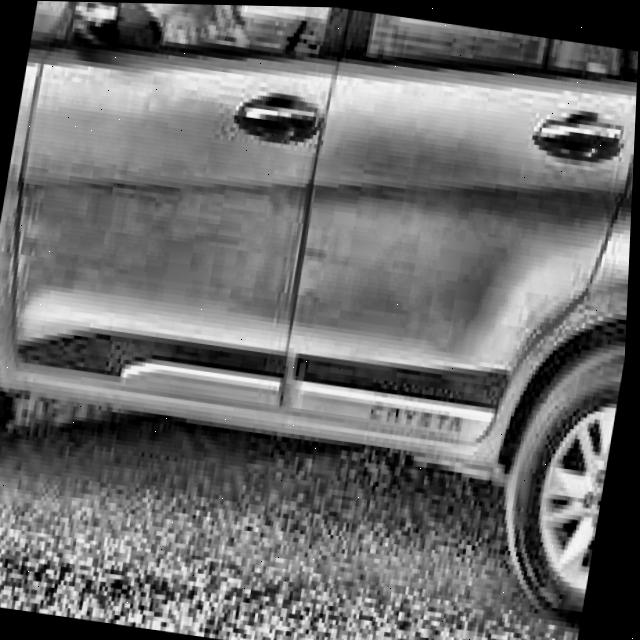light_vehicle: (0, 0, 640, 626)
